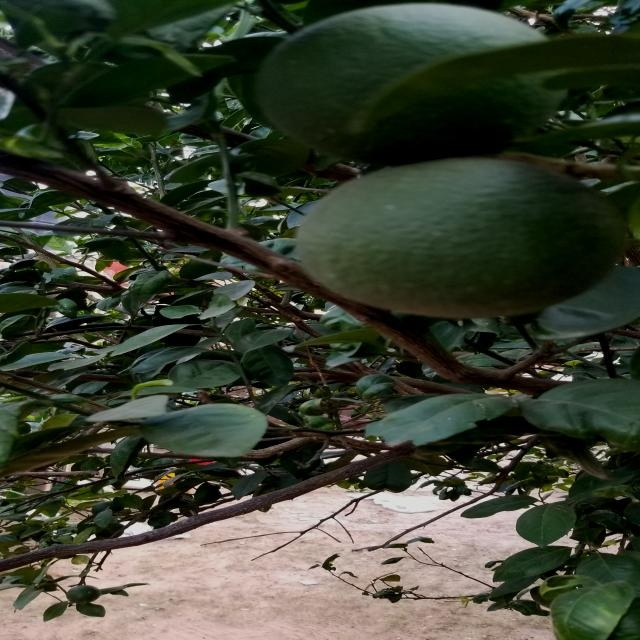agrume: (281, 154, 617, 322), (252, 7, 568, 153)
